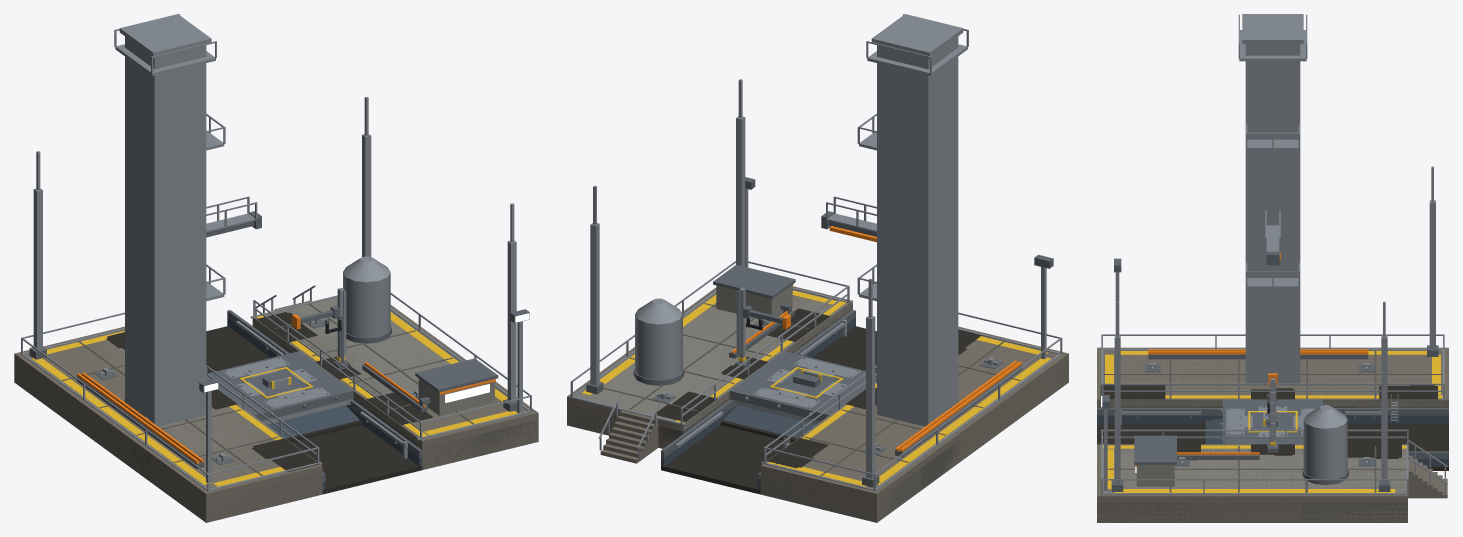
File: launch_pad.glb
3 renders of one model, left to right at view 1: azimuth 30°, elevation 25°; view 2: azimuth 150°, elevation 25°; view 3: azimuth 270°, elevation 25°, orthographic. The views are drawn at different scales.
Parts seen in each view (by area): view 1: LaunchPad_LOD0, col_LaunchTower, col_LaunchPad, col_LaunchTrench, col_LaunchMount; view 2: LaunchPad_LOD0, col_LaunchTower, col_LaunchPad, col_LaunchTrench, col_LaunchMount; view 3: LaunchPad_LOD0, col_LaunchTower, col_LaunchPad, col_LaunchTrench, col_LaunchMount.
Boxes of the visible parts, x1=… form: LaunchPad_LOD0: x1=14, y1=14, x2=538, y2=521; col_LaunchTower: x1=125, y1=16, x2=206, y2=426; col_LaunchPad: x1=14, y1=326, x2=322, y2=522; col_LaunchTrench: x1=252, y1=299, x2=538, y2=469; col_LaunchMount: x1=207, y1=351, x2=353, y2=420; LaunchPad_LOD0: x1=567, y1=14, x2=1068, y2=522; col_LaunchTower: x1=877, y1=16, x2=958, y2=426; col_LaunchPad: x1=760, y1=326, x2=1068, y2=522; col_LaunchTrench: x1=567, y1=286, x2=852, y2=448; col_LaunchMount: x1=729, y1=351, x2=875, y2=420; LaunchPad_LOD0: x1=1097, y1=14, x2=1448, y2=522; col_LaunchTower: x1=1245, y1=15, x2=1300, y2=383; col_LaunchPad: x1=1097, y1=347, x2=1448, y2=407; col_LaunchTrench: x1=1097, y1=444, x2=1407, y2=522; col_LaunchMount: x1=1223, y1=399, x2=1322, y2=444.
Size of what is drawn, in the model's own units: 24 by 28 by 24.
